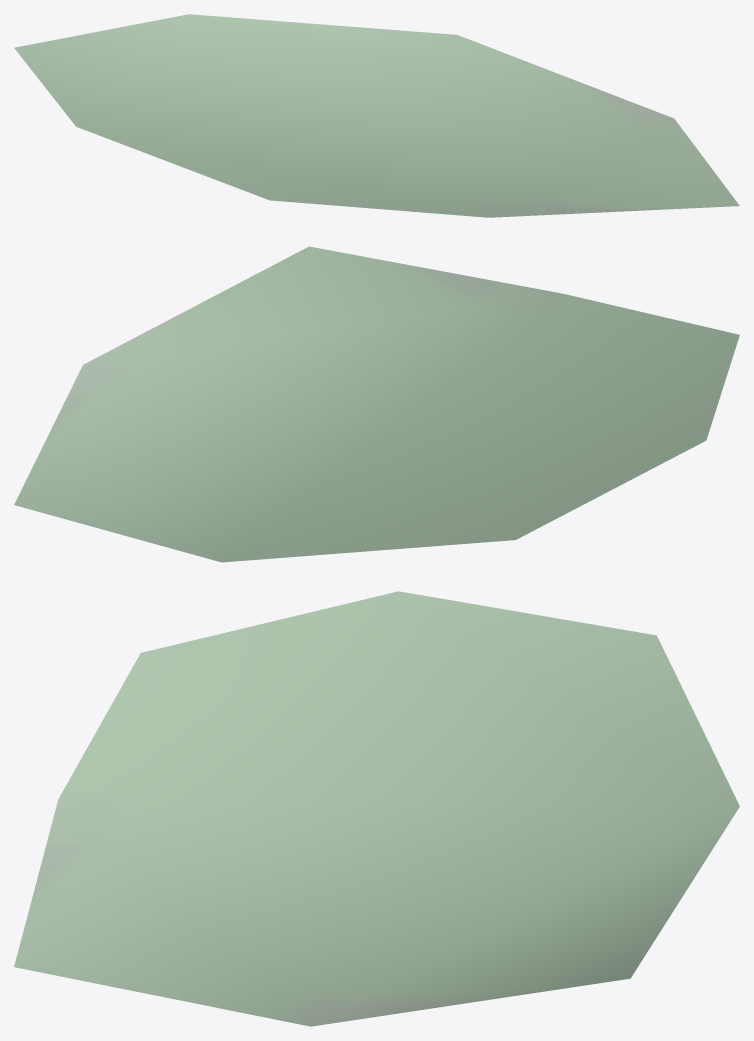
File: TROLLHOLE02_HOLECAP35.fbx
3 views of the same model, one above another, from view 1: azimuth 30°, elevation 25°; view 2: azimuth 150°, elevation 25°; view 3: azimuth 270°, elevation 25° (orthographic). The views are drawn at different scales.
Parts seen in each view (by area): view 1: TROLLHOLE02_HOLECAP35; view 2: TROLLHOLE02_HOLECAP35; view 3: TROLLHOLE02_HOLECAP35.
Boxes of the visible parts, x1,y1,x2,y2 form: TROLLHOLE02_HOLECAP35: (14,14,739,217); TROLLHOLE02_HOLECAP35: (14,246,739,562); TROLLHOLE02_HOLECAP35: (14,591,739,1026).
Size of the model in its own units: 31475 by 5412 by 30359.
1 material, 1 textured.
